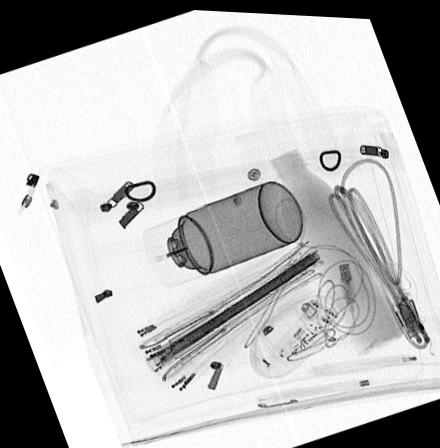Sprayer: (139, 175, 305, 285)
